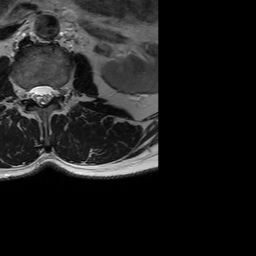CCS_normal: (38, 76, 46, 113)
LFS_normal: (54, 79, 62, 104)
LLS_normal: (46, 77, 54, 109)
RFS_normal: (20, 78, 29, 109)
RLS_normal: (29, 79, 38, 108)
